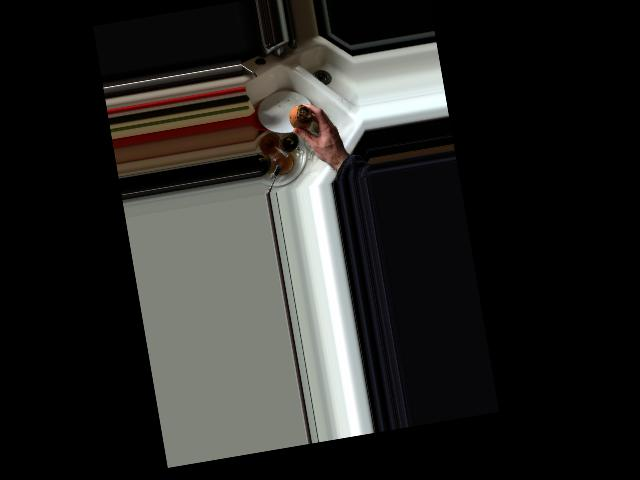sweet_potato: (286, 101, 316, 136)
